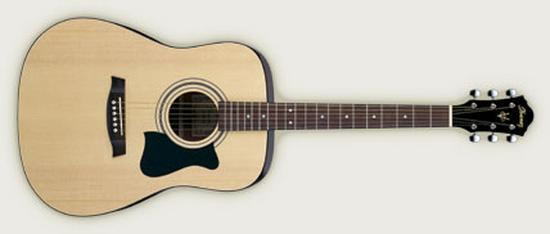guitar: (13, 14, 536, 220)
